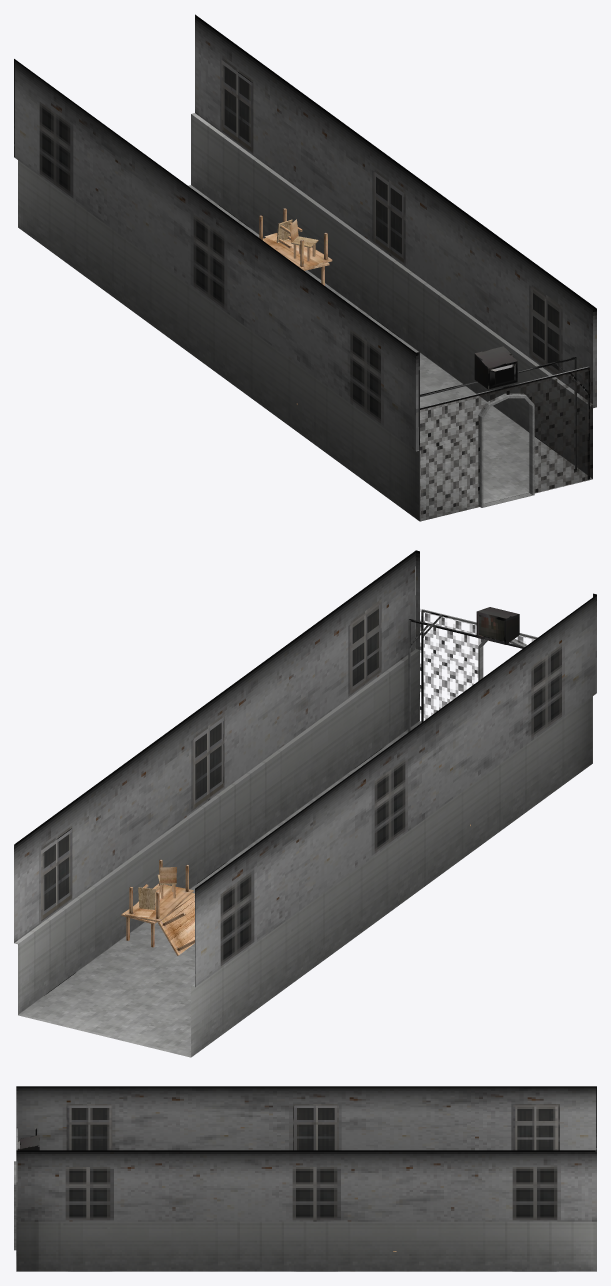
File: chair-mesh.glb
3 renders of one model, top to bottom at view 1: azimuth 30°, elevation 25°; view 2: azimuth 150°, elevation 25°; view 3: azimuth 270°, elevation 25°, orthographic. The views are drawn at different scales.
Parts seen in each view (by area): view 1: corridor_1.001; view 2: corridor_1.001; view 3: corridor_1.001.
Part boxes in pixels (x1,y1,x2,y2): corridor_1.001: [14, 14, 596, 521]; corridor_1.001: [14, 550, 596, 1057]; corridor_1.001: [14, 1086, 596, 1271].
Size of the model in its own units: 5.18 by 4.7 by 20.
3 materials, 3 textured.
